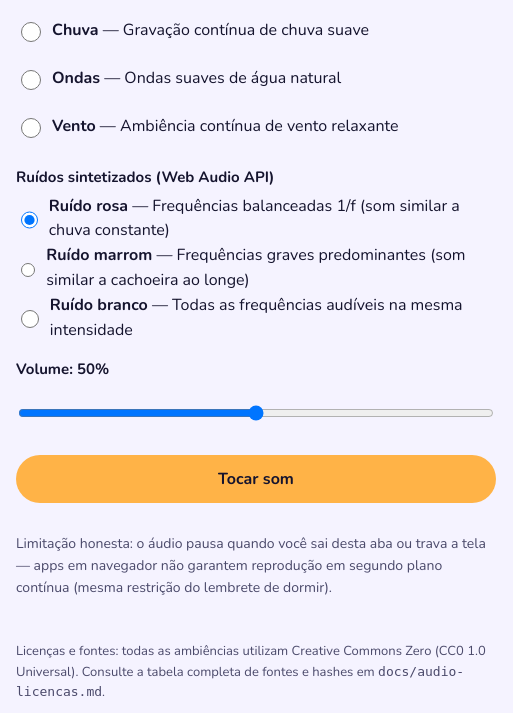
Test: tela de Sons › para o som ao desmontar a página (cleanup)
(page scrolled)
Click the button "Tocar som" at point(256, 479), box [16,455,496,503]
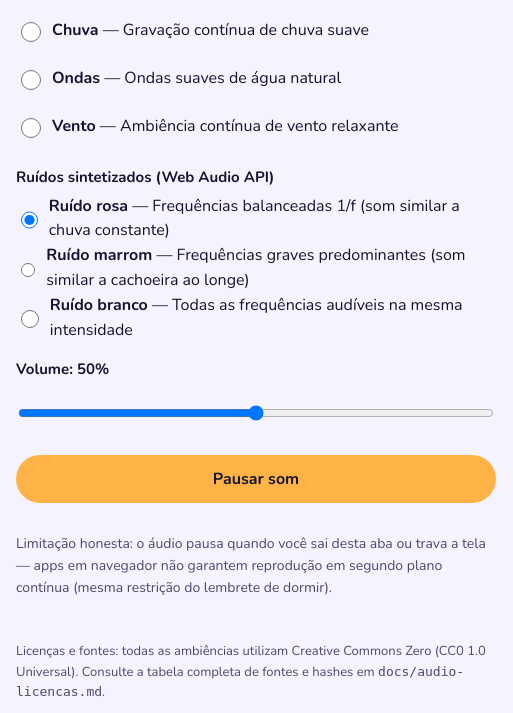
Expected: the button "Pausar som" is shown, [16,455,496,503]
